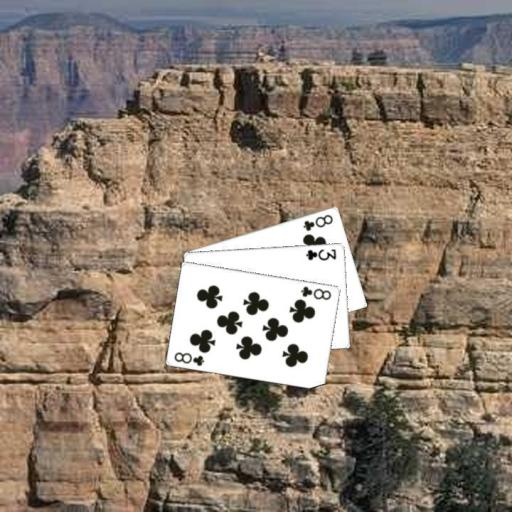3C: (303, 245, 338, 262)
8C: (300, 211, 334, 233), (298, 283, 333, 302), (172, 349, 207, 368)
